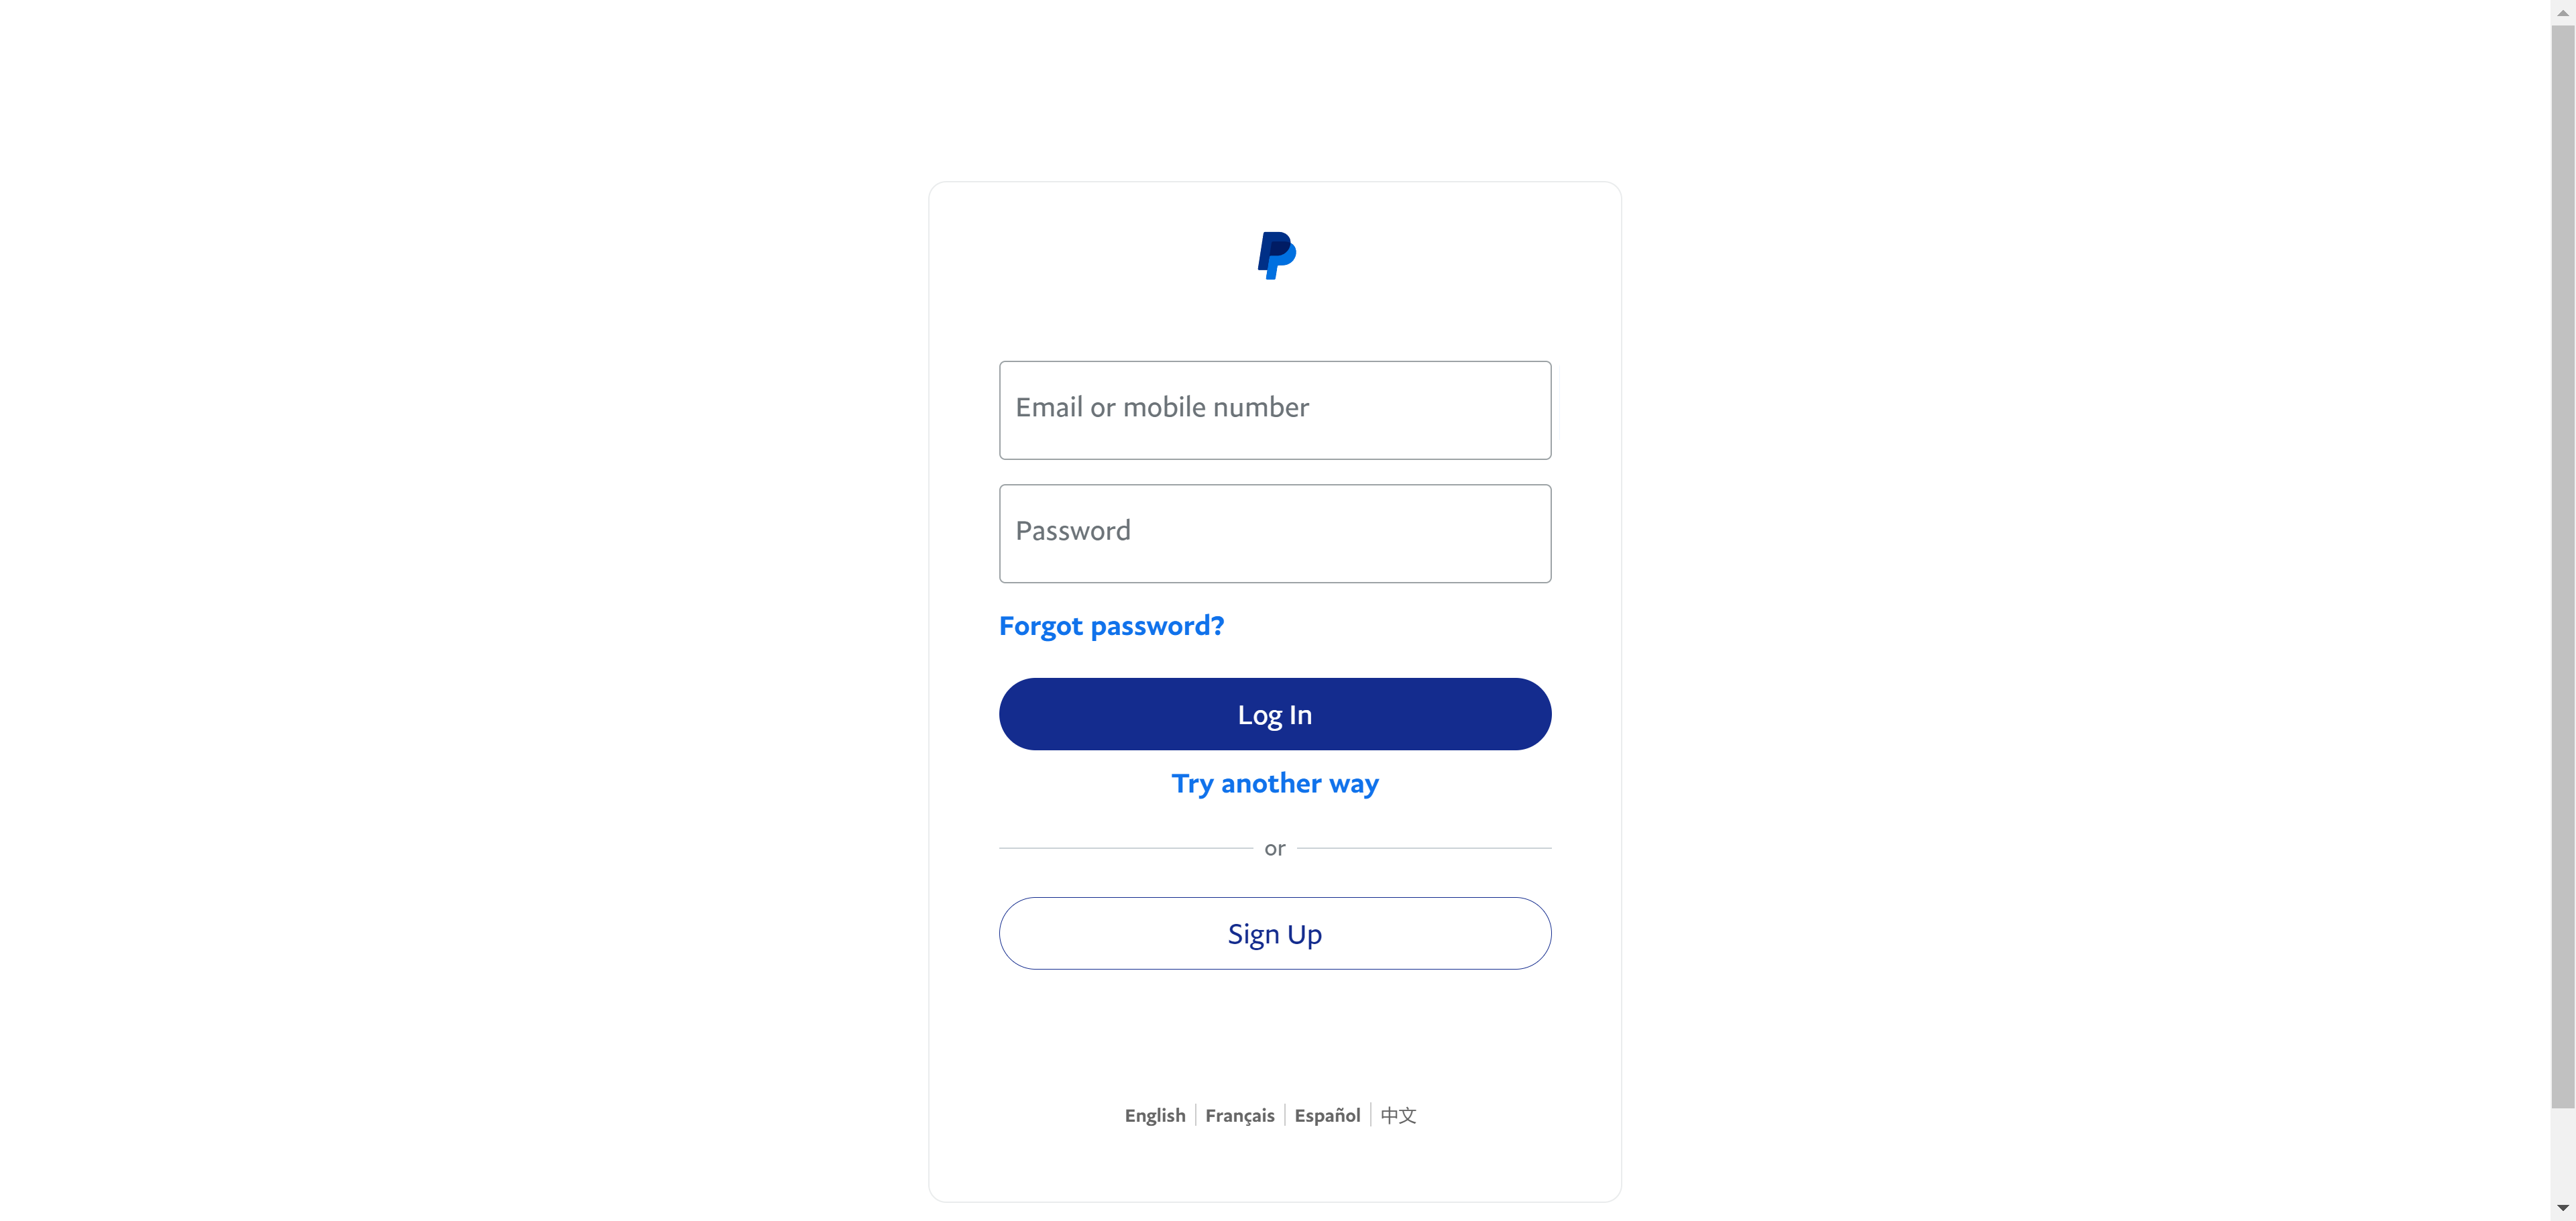login_button: (999, 679, 1551, 751)
login_form: (992, 353, 1559, 759)
